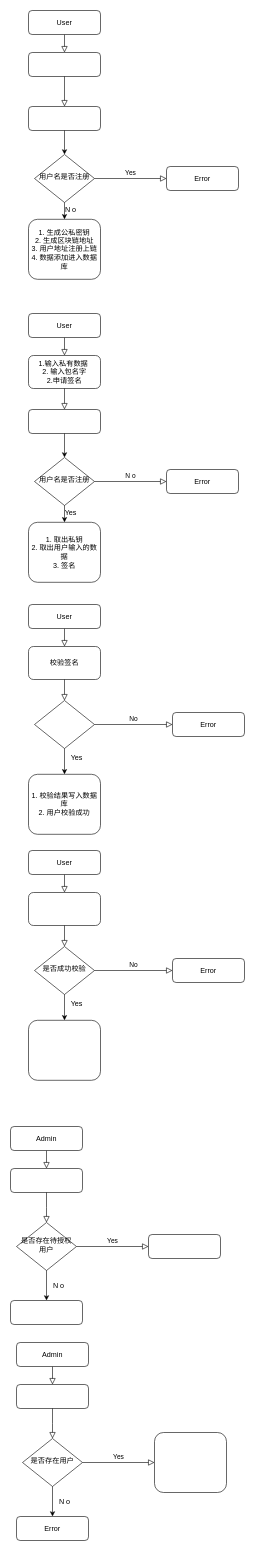
The diagram is 255 pixels wide and 1551 high, and some of its shapes have lost their labels. The centre of each missing label's shape, as x and y in pixels:
1. 获取用户输入的私有值 + 包名字 2. 生成签名 3. 数据写入签名数据库: [190,1462]
Server 判断: [64,118]
Server 判断用户名: [64,421]
Server 返回数据: [64,1050]
下发签名: [52,1396]
下载包: [64,909]
授权/删除用户: [184,1246]
授权用户: [46,1180]
显示为空: [46,1312]
点击登录: [64,64]
链上合约校验: [64,724]
